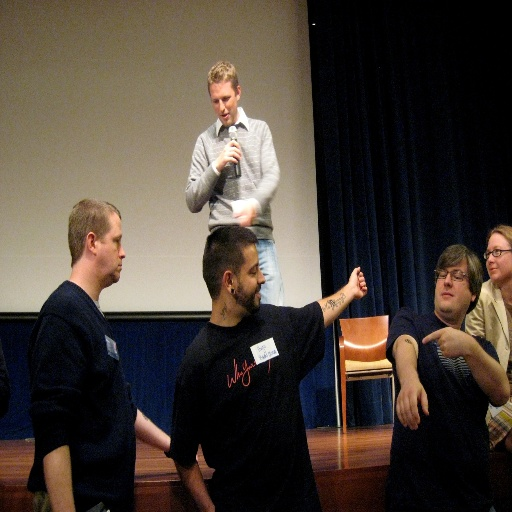hand: (338, 264, 382, 313), (395, 379, 430, 433), (422, 325, 471, 363), (216, 138, 242, 169), (230, 204, 252, 228)
